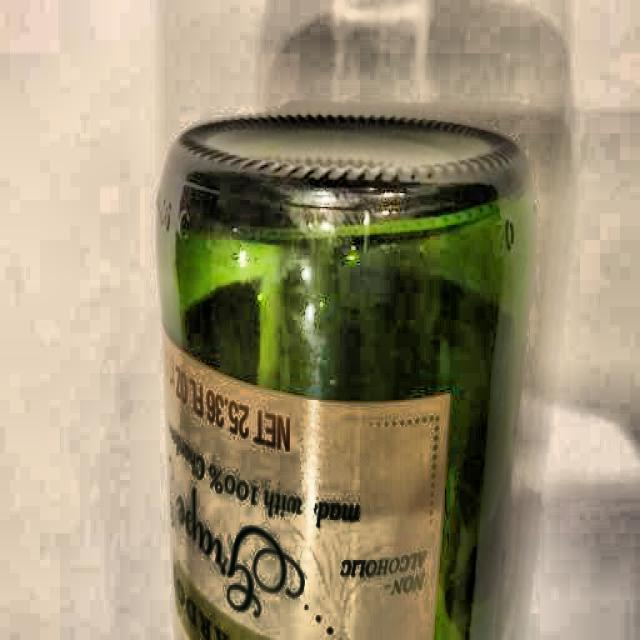glass: (149, 106, 528, 640)
